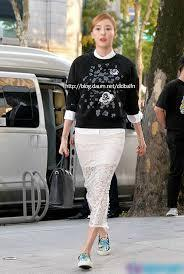skirt: (73, 120, 127, 234)
sweater: (63, 52, 143, 130)
